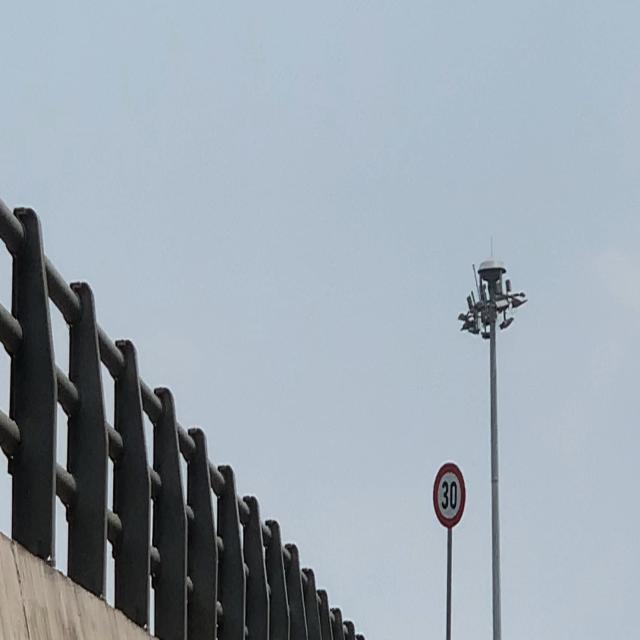Toc do toi da: (432, 462, 467, 530)
